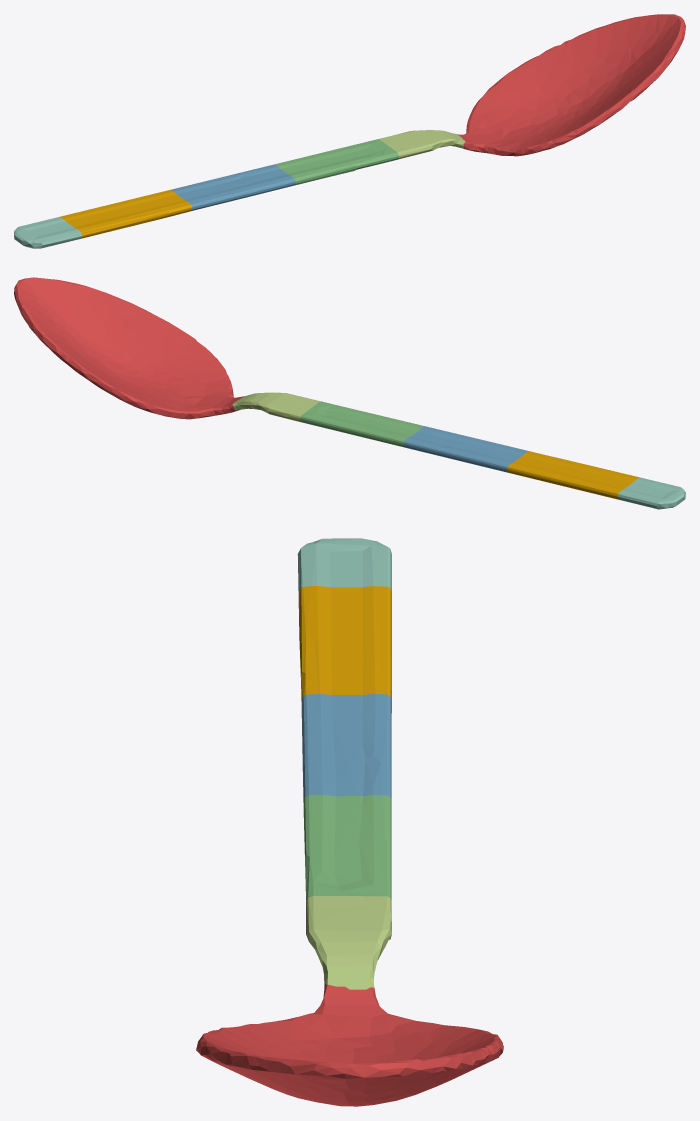
Rendered from mode_7_6pcs.glb.
3 views of the same model, one above another, from view 1: azimuth 30°, elevation 25°; view 2: azimuth 150°, elevation 25°; view 3: azimuth 270°, elevation 25° (orthographic). The views are drawn at different scales.
Visible parts, largest first — view 1: piece_1.obj, piece_0.obj, piece_2.obj, piece_3.obj, piece_5.obj, piece_4.obj; view 2: piece_1.obj, piece_0.obj, piece_2.obj, piece_3.obj, piece_5.obj, piece_4.obj; view 3: piece_1.obj, piece_0.obj, piece_2.obj, piece_3.obj, piece_5.obj, piece_4.obj.
Part boxes in pixels (<box>): piece_1.obj: <box>457,14,685,156</box>; piece_0.obj: <box>60,189,192,238</box>; piece_2.obj: <box>171,164,295,210</box>; piece_3.obj: <box>275,139,398,185</box>; piece_5.obj: <box>379,130,465,158</box>; piece_4.obj: <box>14,216,81,248</box>; piece_1.obj: <box>14,277,243,419</box>; piece_0.obj: <box>507,451,639,499</box>; piece_2.obj: <box>403,426,528,472</box>; piece_3.obj: <box>300,401,424,447</box>; piece_5.obj: <box>232,392,320,422</box>; piece_4.obj: <box>617,477,685,509</box>; piece_1.obj: <box>196,984,503,1106</box>; piece_0.obj: <box>298,586,391,701</box>; piece_2.obj: <box>301,693,391,802</box>; piece_3.obj: <box>303,794,391,899</box>; piece_5.obj: <box>306,896,391,989</box>; piece_4.obj: <box>297,538,391,591</box>.
Bounding box in the file's own units: 1 × 0.118 × 0.2013.
